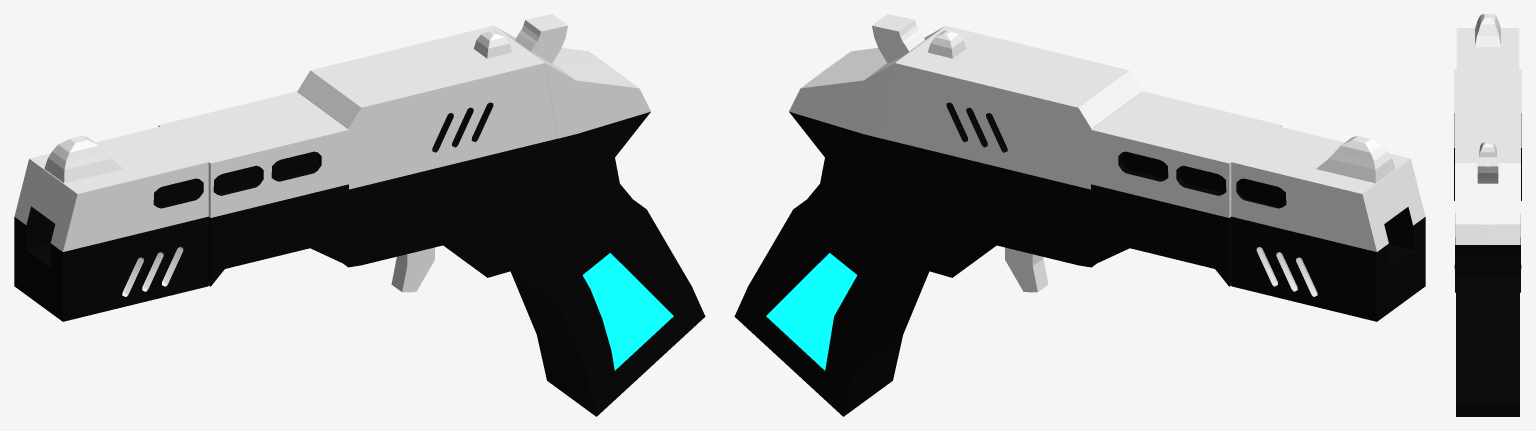
The model's file is Revolver.fbx.
3 views of the same model, side by side, from view 1: azimuth 30°, elevation 25°; view 2: azimuth 150°, elevation 25°; view 3: azimuth 270°, elevation 25° (orthographic). The views are drawn at different scales.
Visible parts, largest first — view 1: Revolver; view 2: Revolver; view 3: Revolver.
Part boxes in pixels (box(x1,y1,x2,y2)): Revolver: box(14, 14, 705, 416); Revolver: box(734, 14, 1425, 416); Revolver: box(1454, 14, 1521, 416).
Size of the model in its own units: 0.7176 by 0.4116 by 0.1015.
